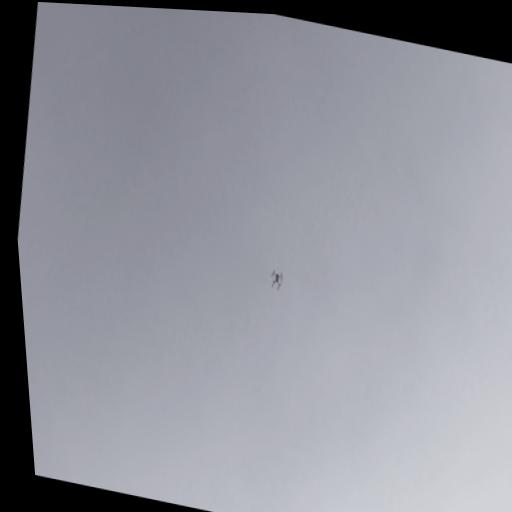drones: (268, 266, 285, 292)
